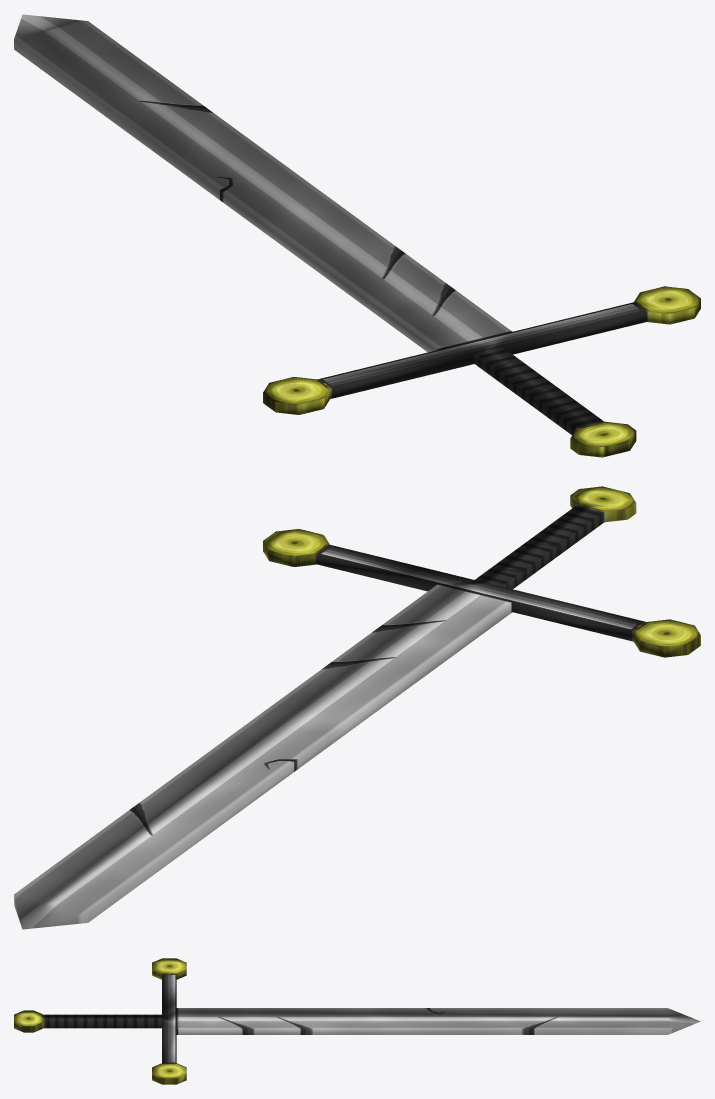
File: Sword.fbx
The picture shows the model from 3 angles, top to bottom: view 1: azimuth 30°, elevation 25°; view 2: azimuth 150°, elevation 25°; view 3: azimuth 270°, elevation 25°; orthographic projection. The views are drawn at different scales.
Visible parts, largest first — view 1: Sword; view 2: Sword; view 3: Sword.
Boxes of the visible parts, x1,y1,x2,y2 form: Sword: (14,14,700,457); Sword: (14,486,700,929); Sword: (14,958,700,1084).
Bounding box in the file's own units: 1.55 × 0.036 × 3.74.
